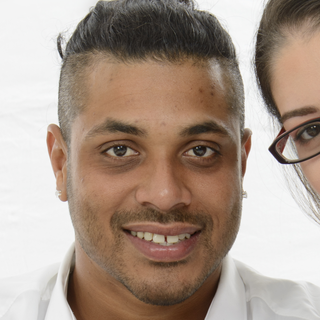eye: (94, 139, 146, 163), (178, 139, 224, 165)
